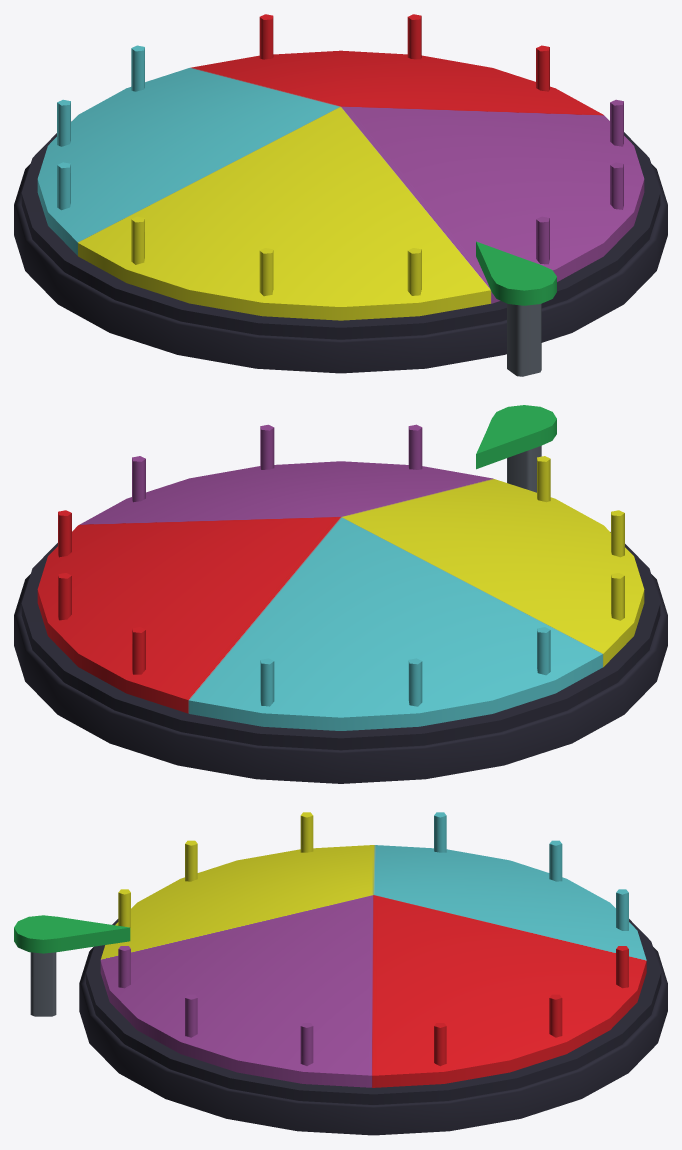
Rendered from lucky wheel.fbx.
The picture shows the model from 3 angles, top to bottom: view 1: azimuth 30°, elevation 25°; view 2: azimuth 150°, elevation 25°; view 3: azimuth 270°, elevation 25°; orthographic projection. The views are drawn at different scales.
Parts seen in each view (by area): view 1: wheel, lucky_wheel, pointer; view 2: wheel, lucky_wheel, pointer; view 3: wheel, lucky_wheel, pointer.
Part boxes in pixels (<box>): wheel: <box>37,14,644,320</box>; lucky_wheel: <box>14,121,667,376</box>; pointer: <box>476,241,556,305</box>; wheel: <box>37,424,644,730</box>; lucky_wheel: <box>14,446,667,783</box>; pointer: <box>476,405,556,469</box>; wheel: <box>100,812,646,1087</box>; lucky_wheel: <box>30,919,667,1135</box>; pointer: <box>14,915,130,953</box>.
Bounding box in the file's own units: 33.28 × 7.23 × 36.97.
1 material, 1 textured.
